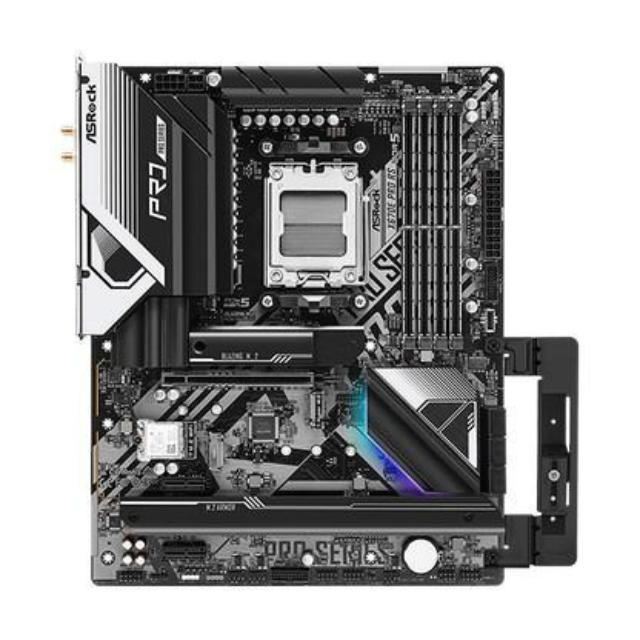Mainboard: (62, 48, 513, 608)
